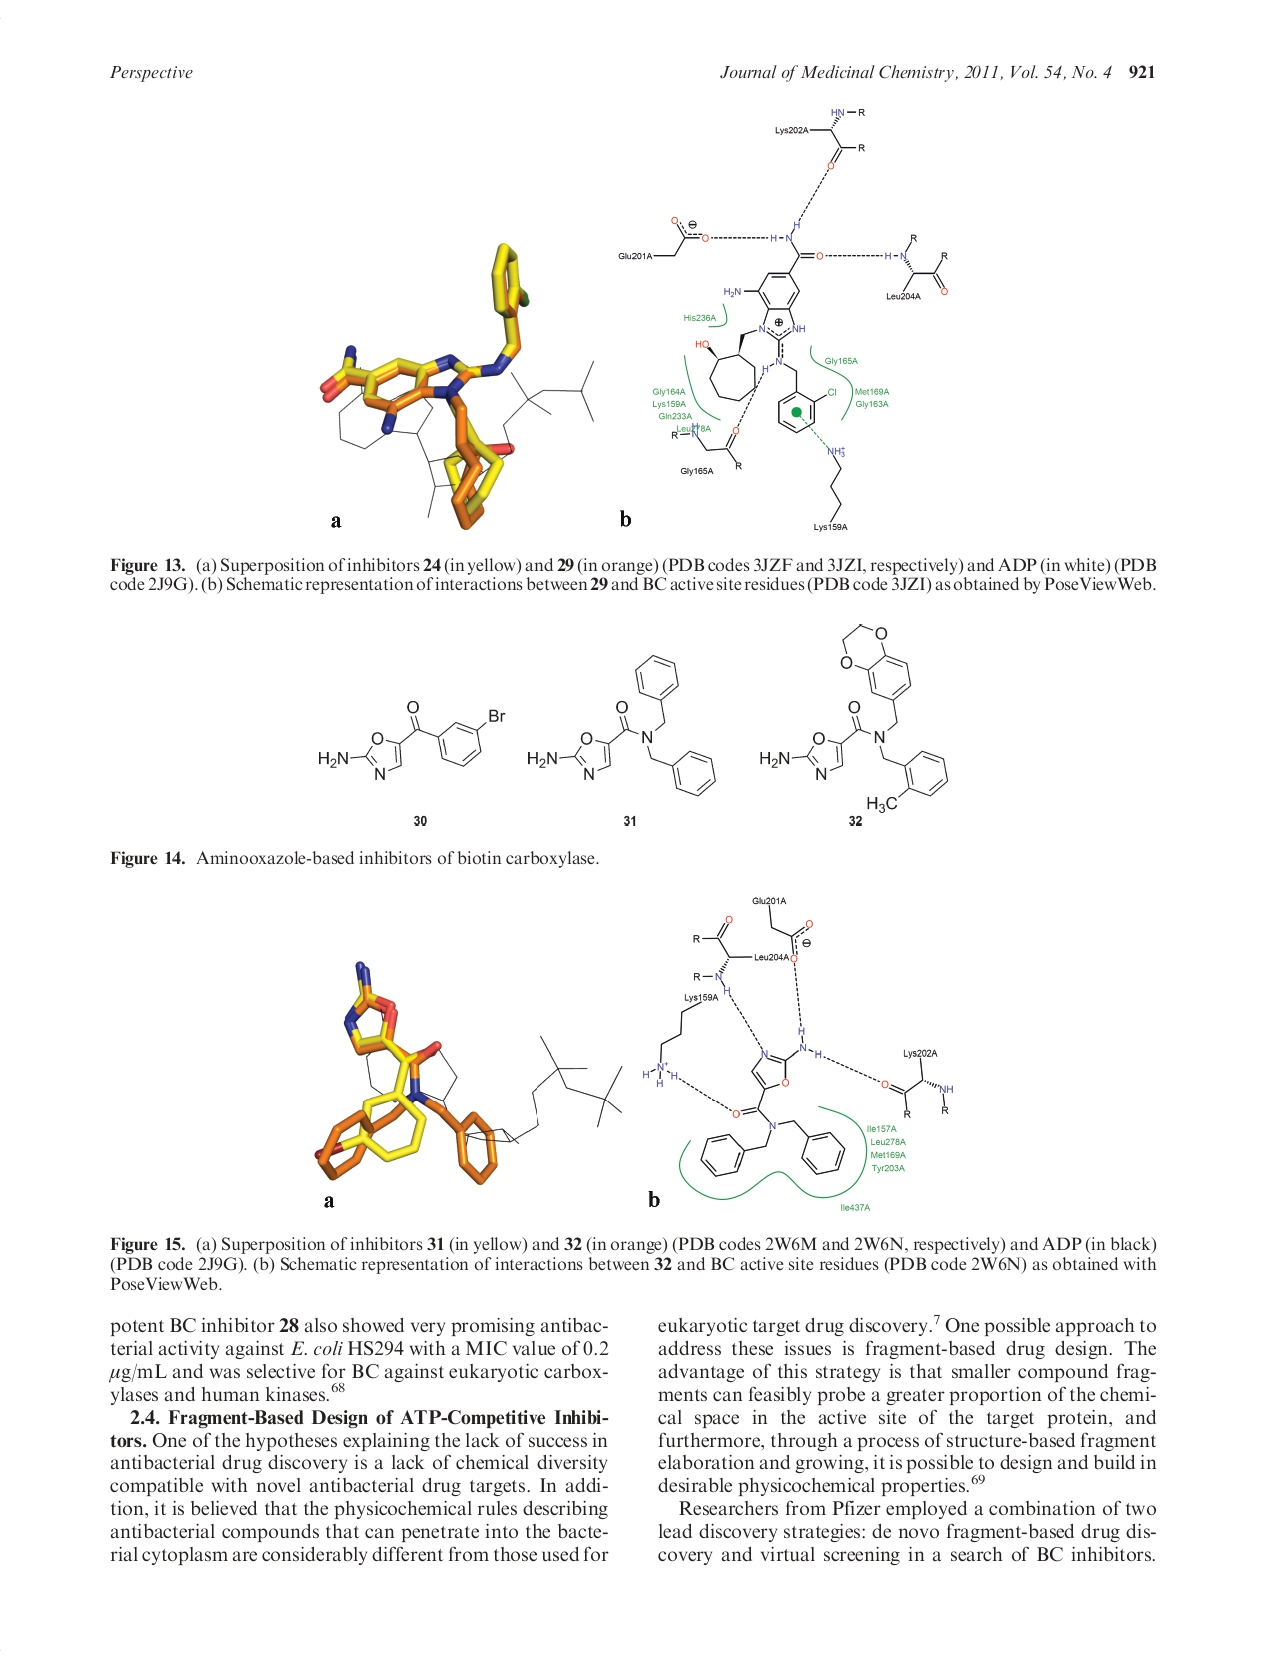exist_molecular: (755, 617, 951, 814), (693, 218, 843, 435), (527, 652, 721, 799), (698, 1025, 851, 1176), (313, 696, 507, 783), (637, 989, 721, 1091), (689, 914, 791, 996), (773, 98, 872, 170), (879, 231, 957, 307), (880, 1047, 957, 1120), (616, 211, 713, 265), (751, 891, 818, 965), (668, 420, 746, 472), (811, 446, 855, 536)
